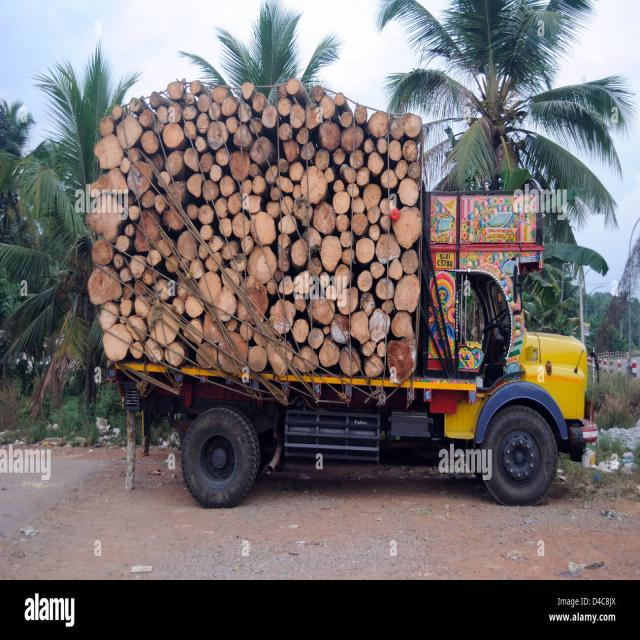Truck: (92, 188, 597, 505)
